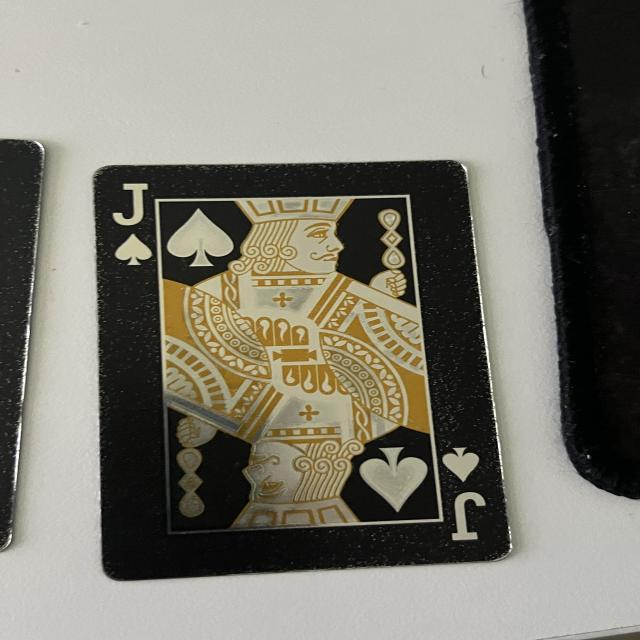JS: (439, 446, 495, 548), (104, 178, 158, 267)
